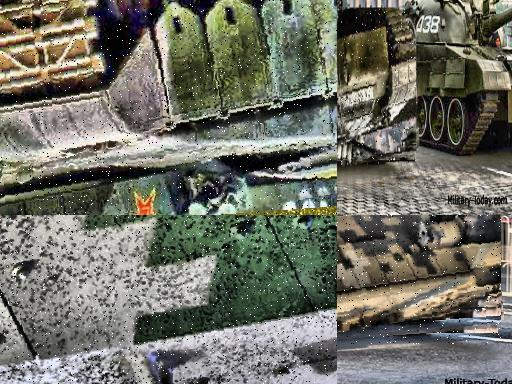tanks: (1, 1, 338, 216), (1, 216, 338, 384), (338, 216, 502, 335), (387, 1, 512, 155), (339, 9, 417, 167)
